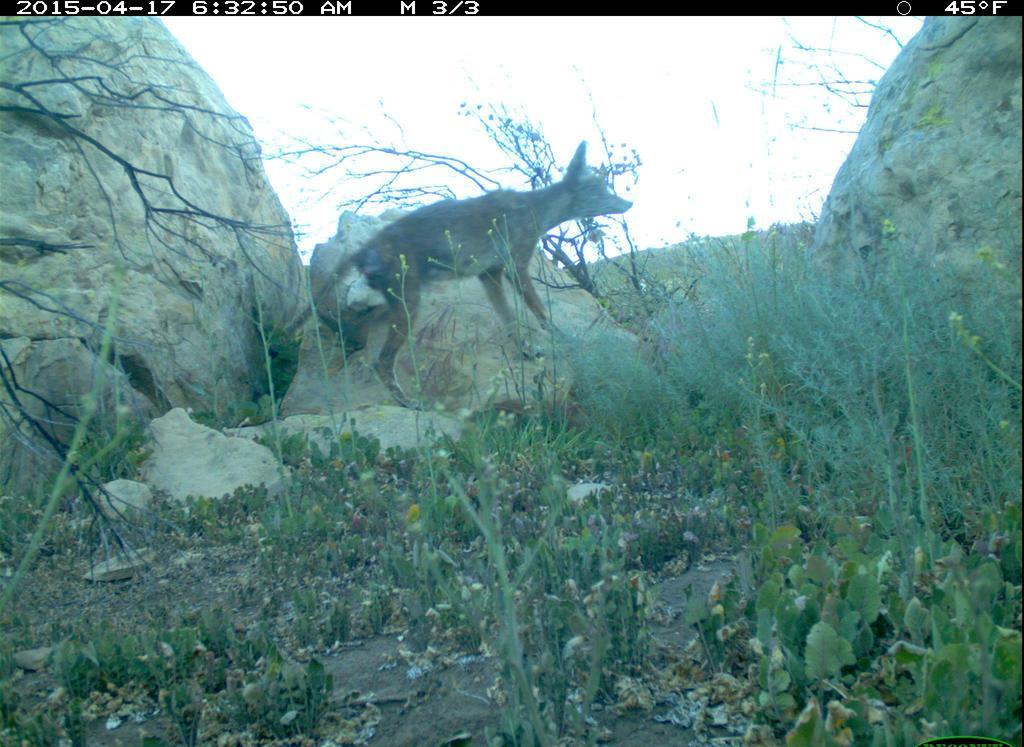coyote: (283, 140, 635, 417)
